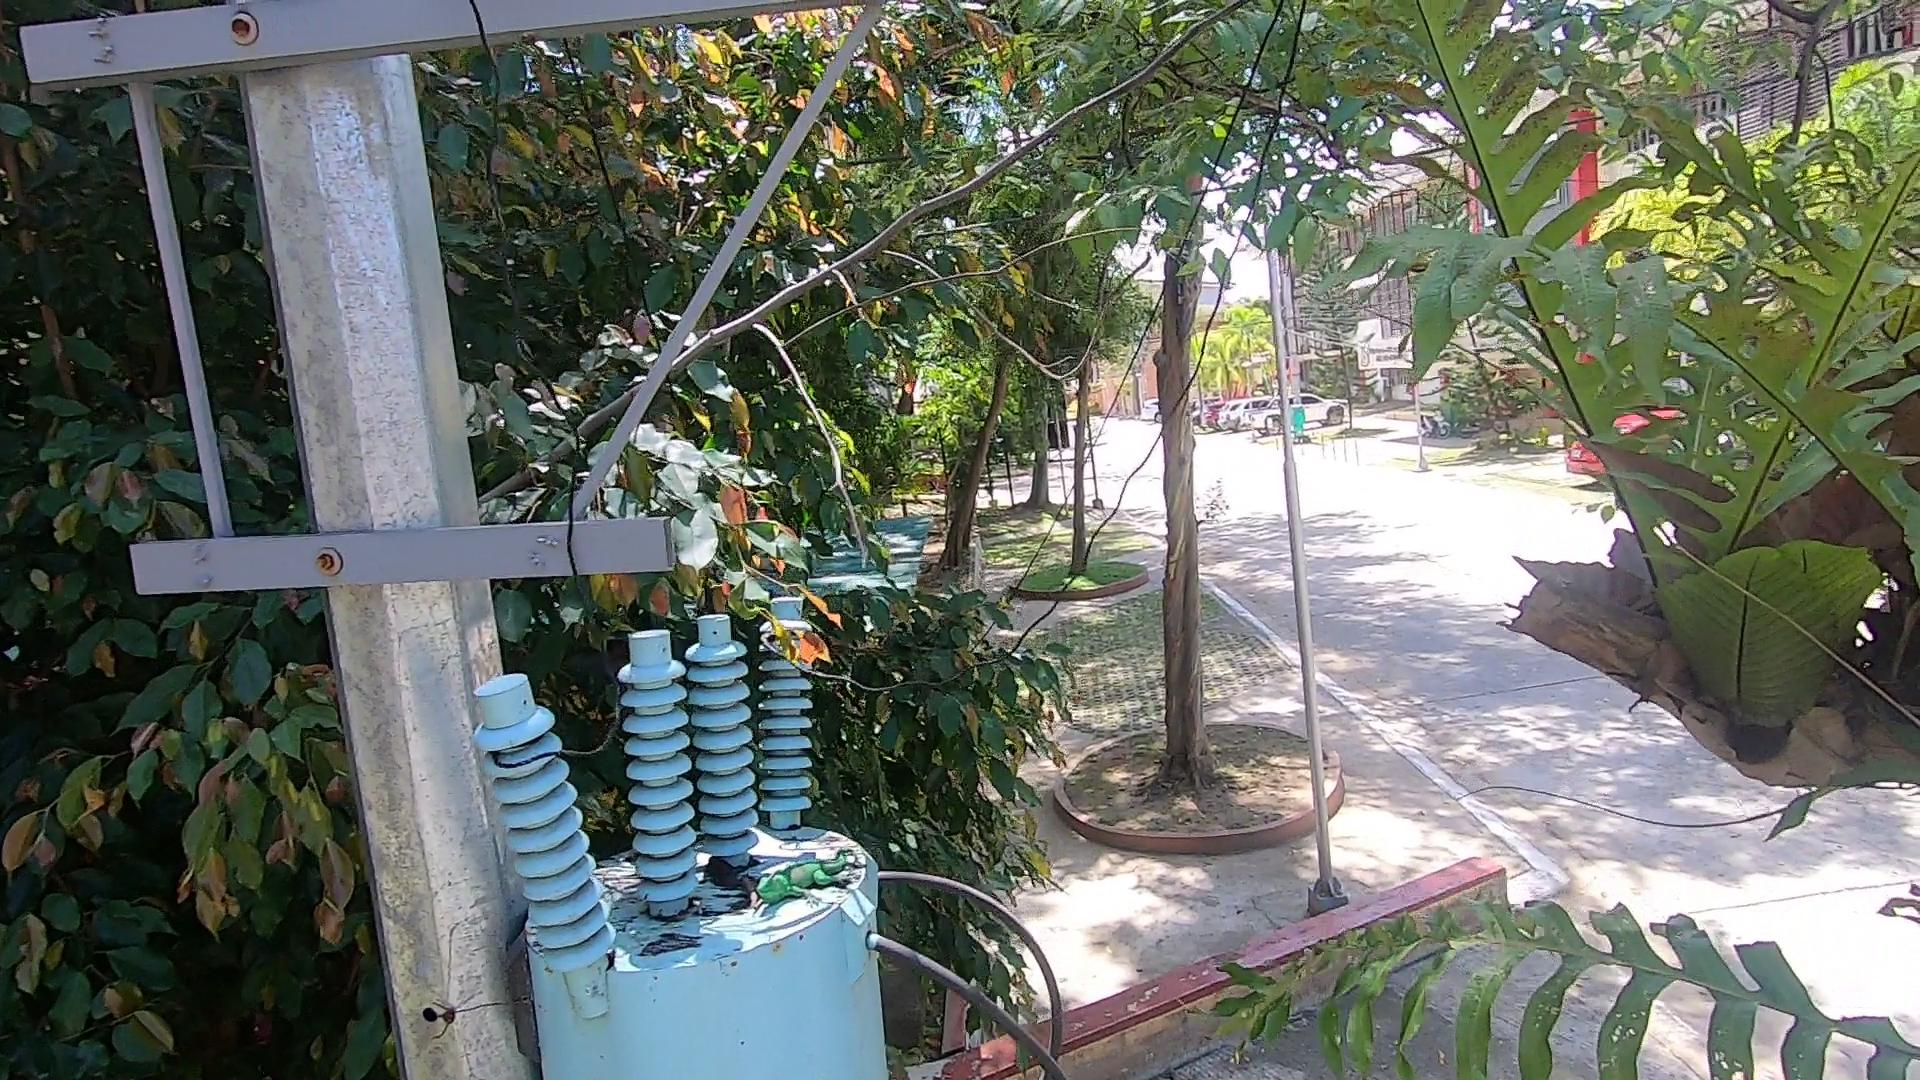leaf: (732, 882, 762, 924), (705, 855, 746, 880)
tree branch: (475, 1, 1433, 513)
